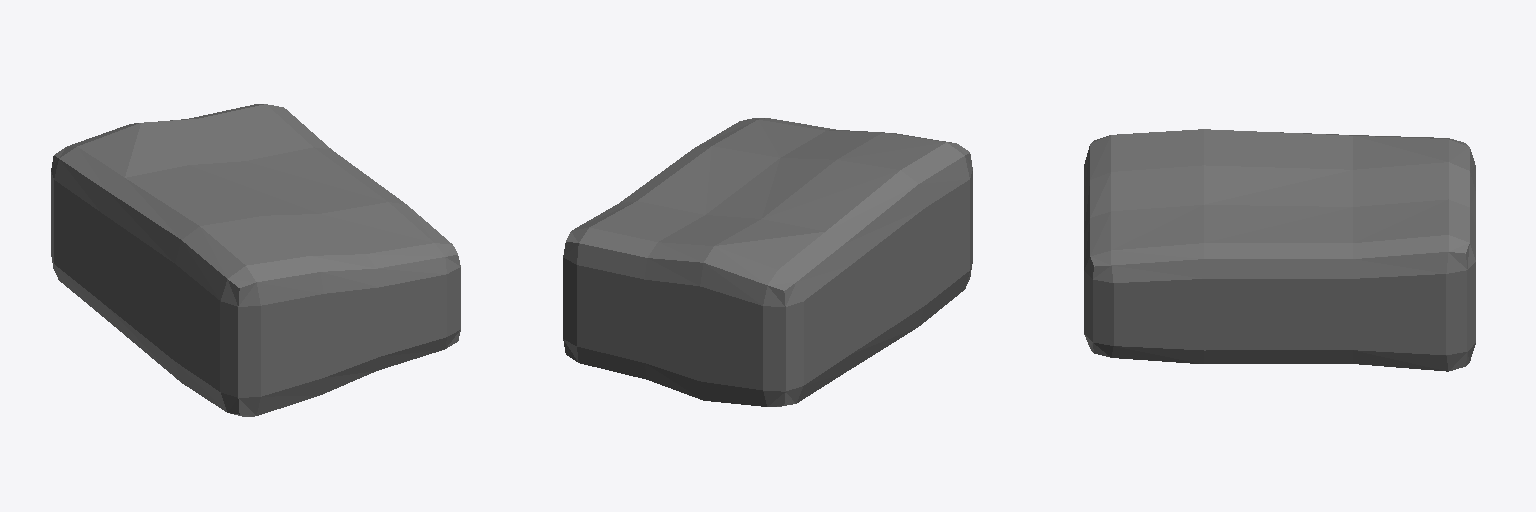
The model's file is Kooltje.obj.
3 renders of one model, left to right at view 1: azimuth 30°, elevation 25°; view 2: azimuth 150°, elevation 25°; view 3: azimuth 270°, elevation 25°, orthographic.
Visible parts, largest first — view 1: Kooltje2:pCube1; view 2: Kooltje2:pCube1; view 3: Kooltje2:pCube1.
Part boxes in pixels (x1,y1,x2,y2): Kooltje2:pCube1: (51, 104, 460, 416); Kooltje2:pCube1: (563, 118, 972, 406); Kooltje2:pCube1: (1084, 129, 1475, 371).
Size of the model in its own units: 0.0144 by 0.0094 by 0.0206.